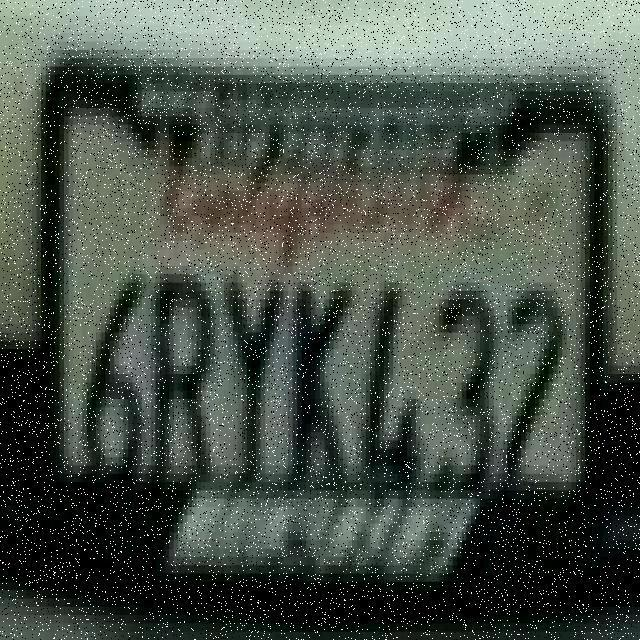LicensePlate: (37, 36, 624, 531)
